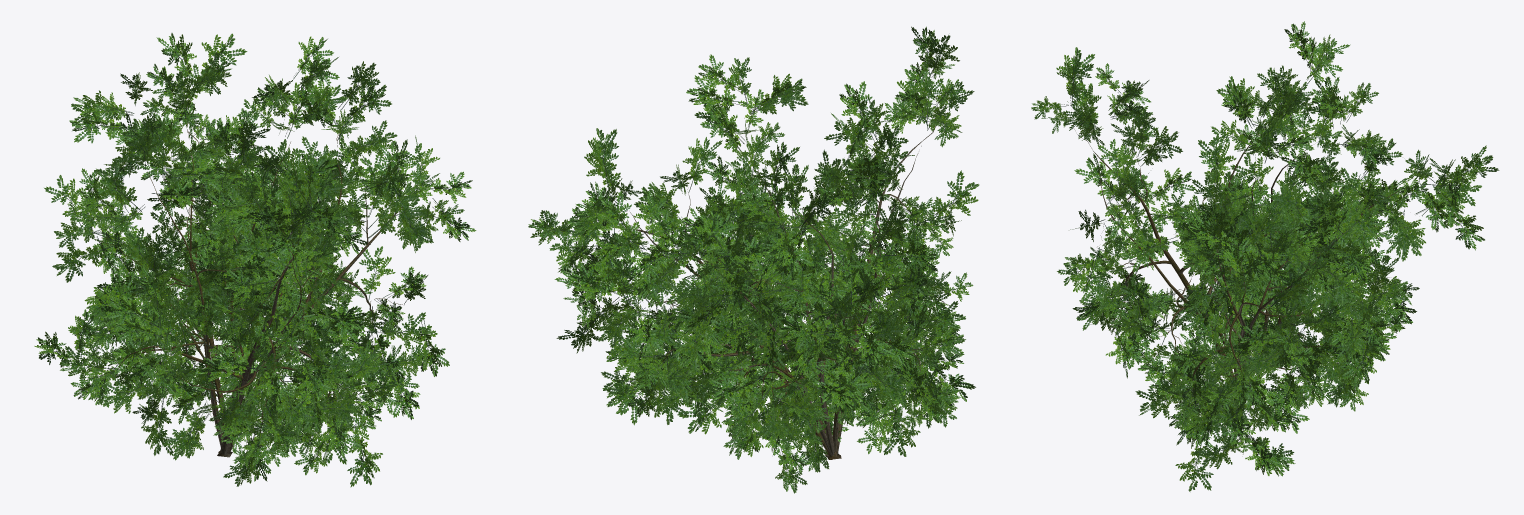
The model's file is bush (1).glb.
The picture shows the model from 3 angles, left to right: view 1: azimuth 30°, elevation 25°; view 2: azimuth 150°, elevation 25°; view 3: azimuth 270°, elevation 25°; orthographic projection. The views are drawn at different scales.
Visible parts, largest first — view 1: Tree; view 2: Tree; view 3: Tree.
Part boxes in pixels (<box>): Tree: <box>34,33,476,487</box>; Tree: <box>528,26,979,493</box>; Tree: <box>1031,21,1499,491</box>.
Bounding box in the file's own units: 30.96 × 30.07 × 32.17.
Materials: 2 (2 with a texture image).
